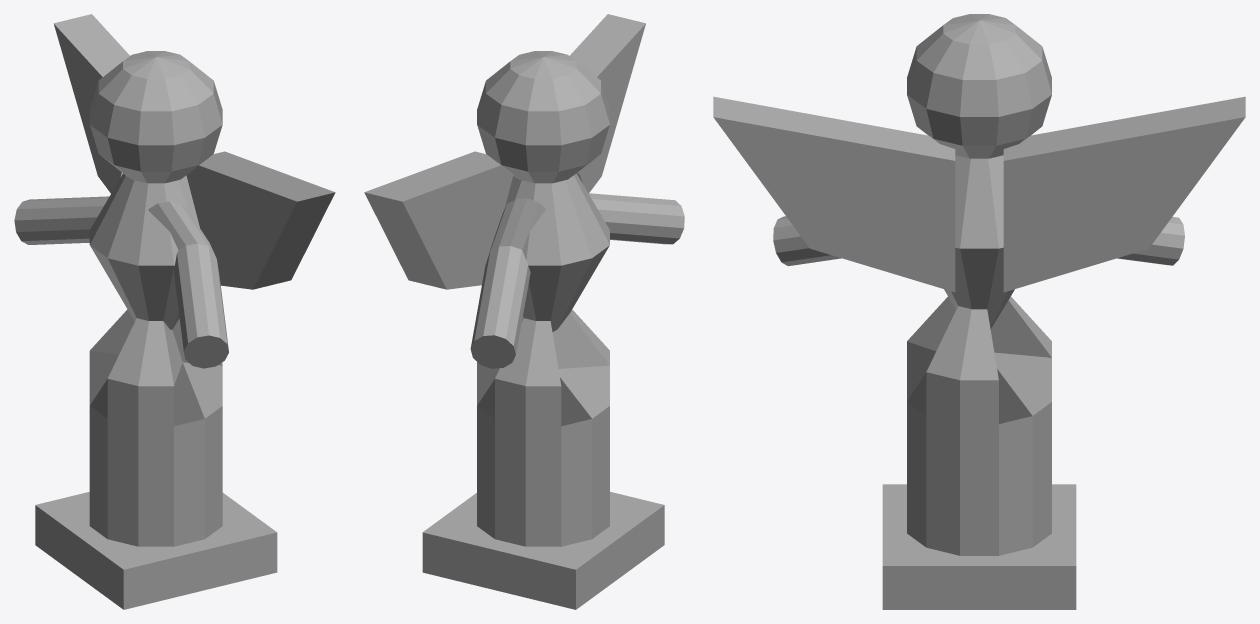
The model's file is angels_kiss.glb.
3 views of the same model, side by side, from view 1: azimuth 30°, elevation 25°; view 2: azimuth 150°, elevation 25°; view 3: azimuth 270°, elevation 25° (orthographic). The views are drawn at different scales.
Visible parts, largest first — view 1: circle, cuboid (×2), cube, sphere, cylinder (×2), cone (×2); view 2: circle, cuboid (×2), cube, sphere, cylinder (×2), cone (×2); view 3: cuboid (×2), circle, sphere, cube, cone (×2), cylinder (×2).
Part boxes in pixels (x1,y1,x2,y2): circle: [89, 309, 222, 546]; cuboid (×2): [53, 14, 335, 289]; cube: [35, 492, 277, 609]; sphere: [89, 51, 222, 183]; cylinder (×2): [14, 172, 228, 368]; cone (×2): [89, 173, 199, 329]; circle: [477, 309, 609, 546]; cuboid (×2): [364, 14, 645, 289]; cube: [422, 491, 664, 609]; sphere: [477, 51, 609, 183]; cylinder (×2): [470, 173, 684, 368]; cone (×2): [505, 173, 609, 331]; cuboid (×2): [713, 96, 1245, 292]; circle: [907, 296, 1051, 555]; sphere: [907, 14, 1051, 158]; cube: [882, 484, 1076, 609]; cone (×2): [944, 155, 1014, 328]; cylinder (×2): [773, 216, 1184, 266].
Bounding box in the file's own units: 0.25 × 0.7812 × 0.6875.
2 materials, 2 textured.
